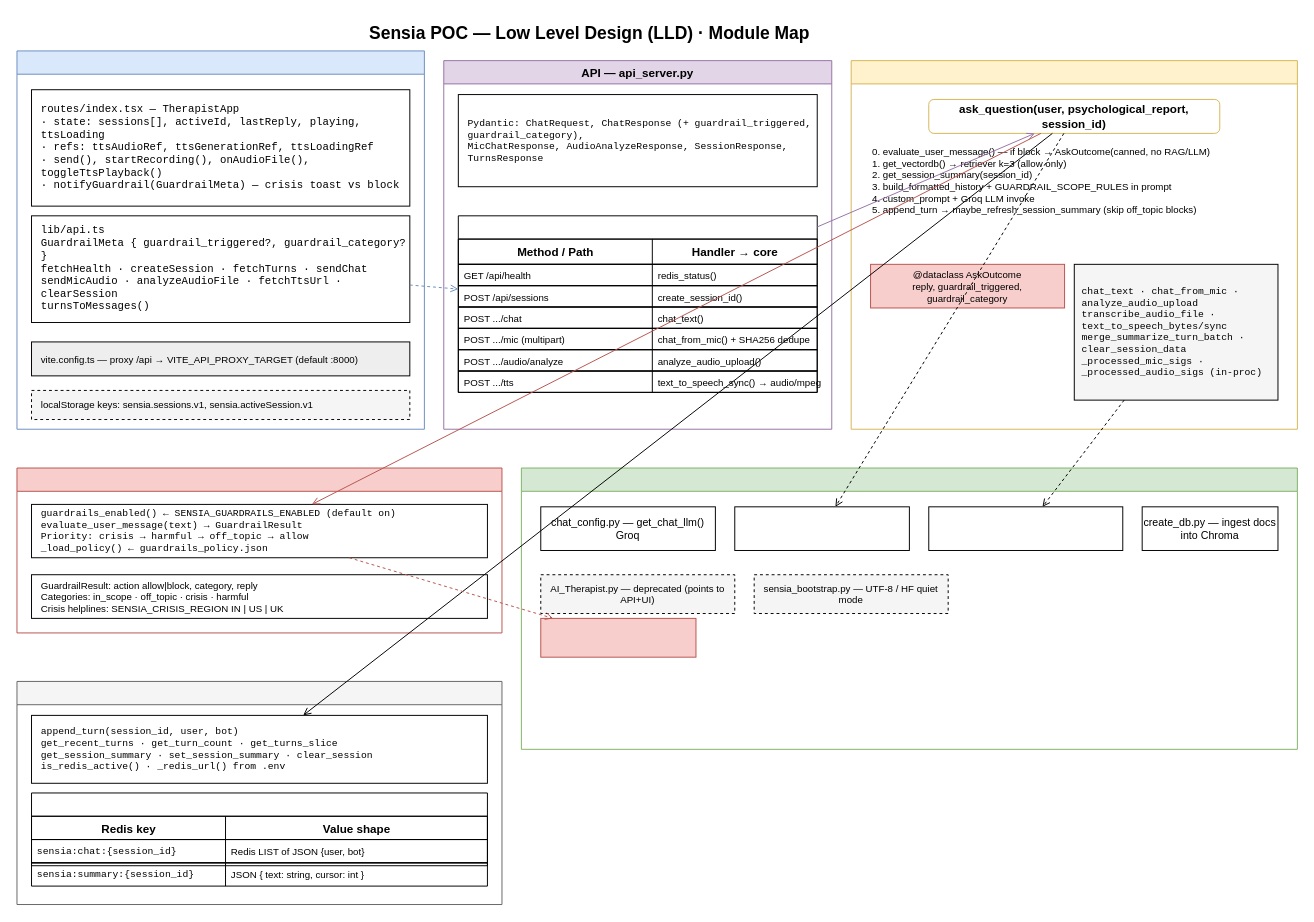
Image size: 1314x922. Some labels were removed from this diagram. The shapes that lost their labels are listed below. From the top down, each one's box as (x1, y1, x2, y2) in pixels, then its label:
(16, 50, 424, 429): Frontend — sensia_ui-main/src
(850, 60, 1297, 429): Domain — therapist_core.py
(734, 506, 909, 550): embeddings_config.py — HuggingFace mpnet
(928, 506, 1123, 550): Audio_Analysis.py — extract_audio_features, analyze_with_openai
(16, 467, 502, 633): Guardrails — sensia_guardrails.py
(520, 467, 1297, 749): Supporting modules
(540, 617, 696, 657): guardrails_policy.json patterns · phrases · replies
(16, 680, 502, 905): Persistence — conversation_store.py
